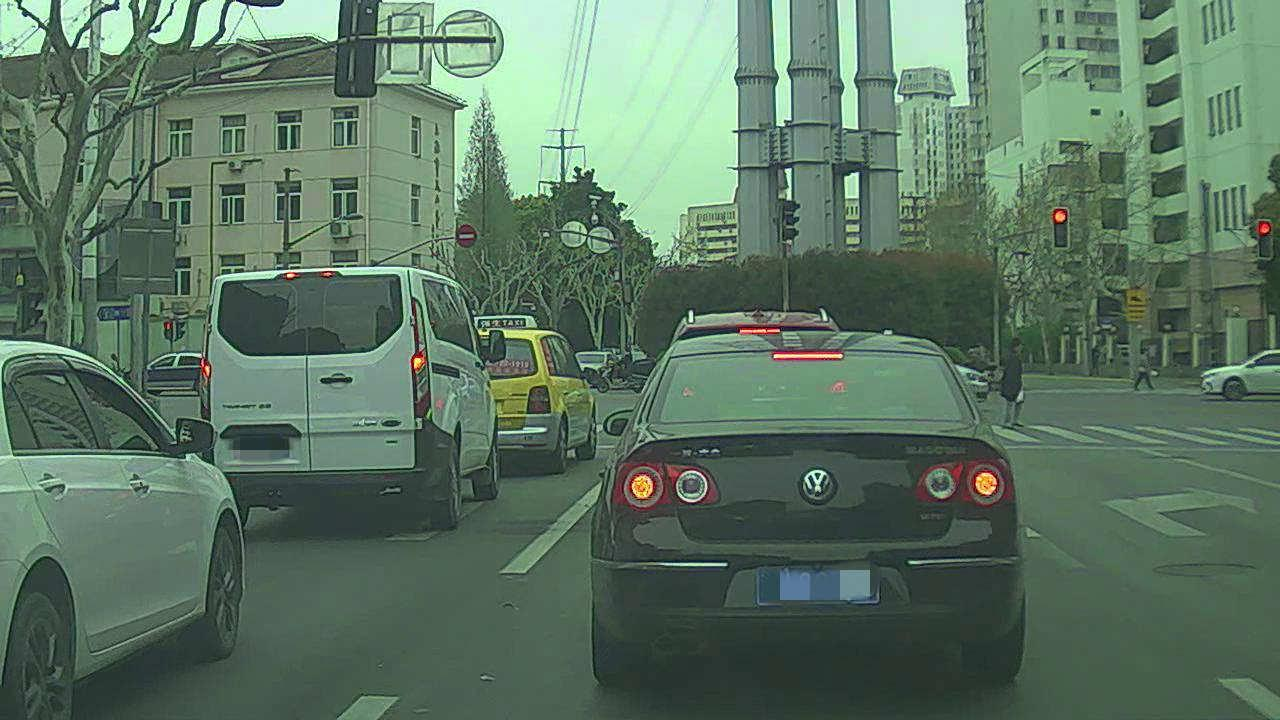traffic_light: (1052, 209, 1066, 248)
